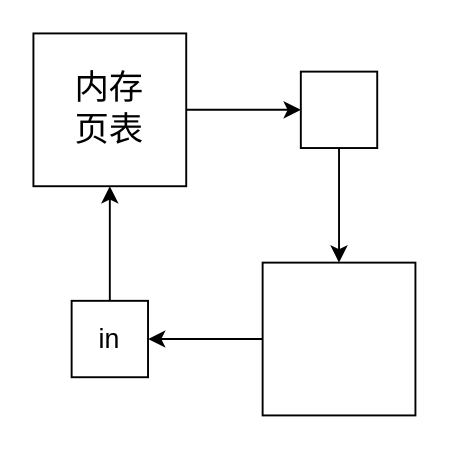
Some shapes in this 449 by 449 pixel diagram are drawn without their labels. The shapes that lost their labels are listed below. From the top down, each one's centre as x and y in pixels, then its label:
point 338,109: out
point 338,338: 外存文件
